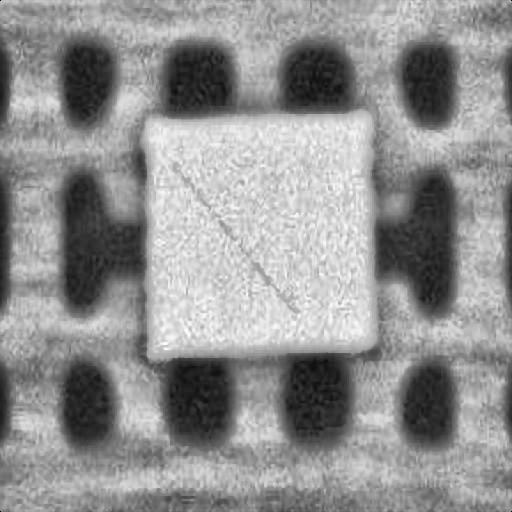DIE_CRACK: (258, 108, 440, 207)
